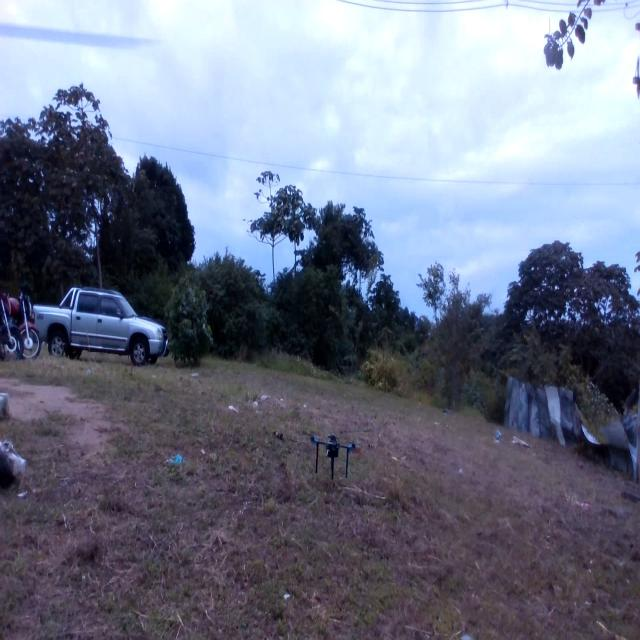-uav-: (303, 424, 362, 490)
